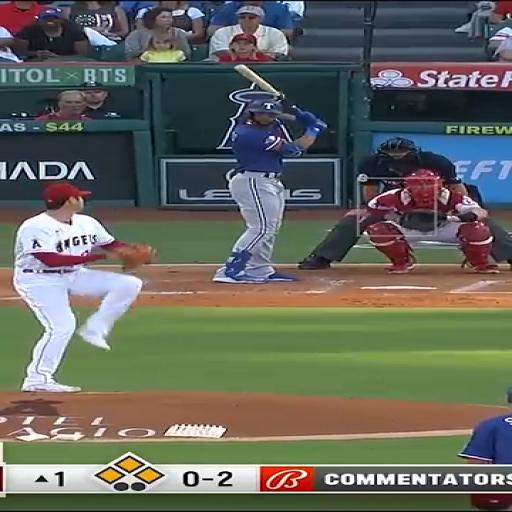bat: (235, 64, 284, 98), (235, 64, 283, 97)
